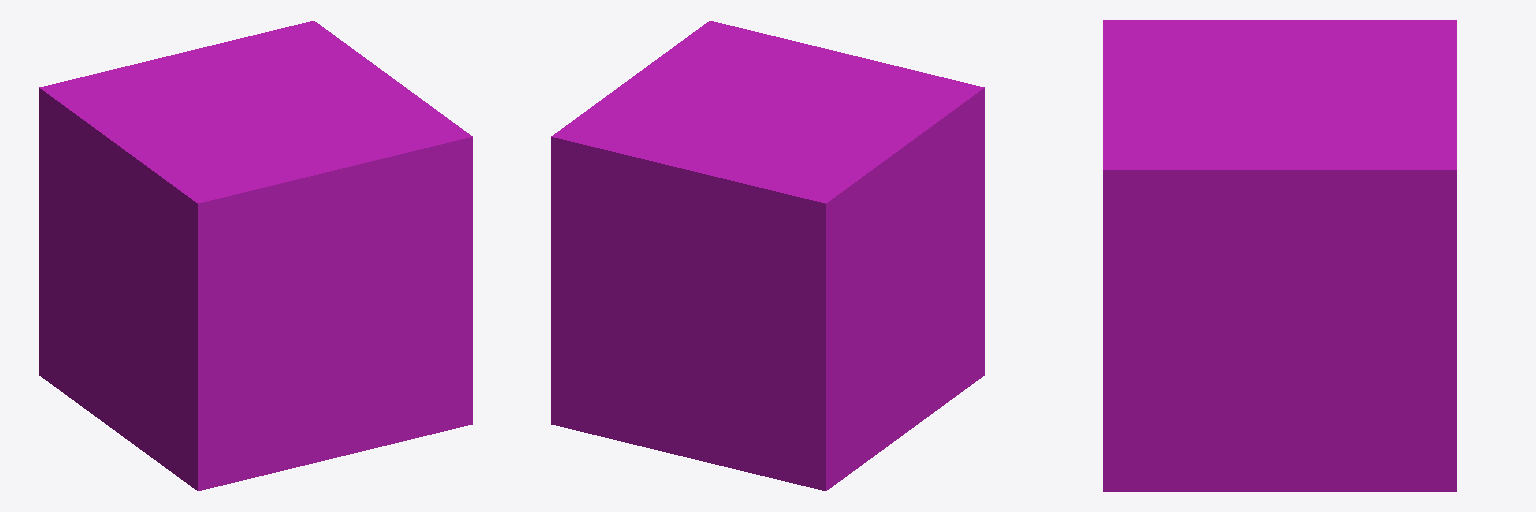
robot.urdf — random_box:
<?xml version='1.0' encoding='UTF-8'?>
<robot name="random_box">
  <link name="box">
    <visual>
      <geometry>
        <box size="0.05 0.05 0.05"/>
      </geometry>
      <material name="color">
        <color rgba="0.7935012351550805 0.17770127244029932 0.7771437481986383 1"/>
      </material>
    </visual>
    <collision>
      <geometry>
        <box size="0.05 0.05 0.05"/>
      </geometry>
    </collision>
  </link>
</robot>

--- What the picture shows (computed from the rendered views, not written in the file) ---
3 views of the same robot in one strip: view 1: azimuth 30°, elevation 25°; view 2: azimuth 150°, elevation 25°; view 3: azimuth 270°, elevation 25° (orthographic).
Robot: random_box — 1 links, 0 joints (none); root link box; default pose: every joint at zero.
Visible links, largest first — view 1: box; view 2: box; view 3: box.
Link boxes in pixels (x1,y1,x2,y2): box: [39, 21, 472, 490]; box: [551, 21, 984, 490]; box: [1103, 20, 1456, 491].
Size in the robot's own frame: 0.05 by 0.05 by 0.05 metres.
Geometry: primitives only (box / cylinder / sphere), no mesh files.